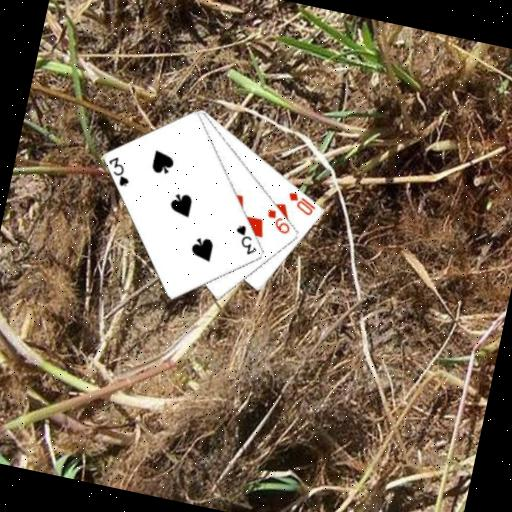10D: (282, 187, 320, 217)
3S: (228, 221, 263, 258), (101, 152, 136, 189)
9D: (260, 205, 295, 236)
